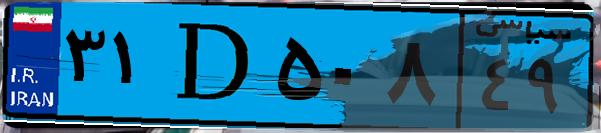0: (330, 28, 385, 110)
1: (110, 28, 158, 98)
3: (57, 26, 110, 100)
4: (475, 38, 525, 113)
5: (270, 28, 330, 110)
8: (385, 28, 445, 110)
9: (525, 38, 570, 115)
D: (158, 12, 270, 120)
